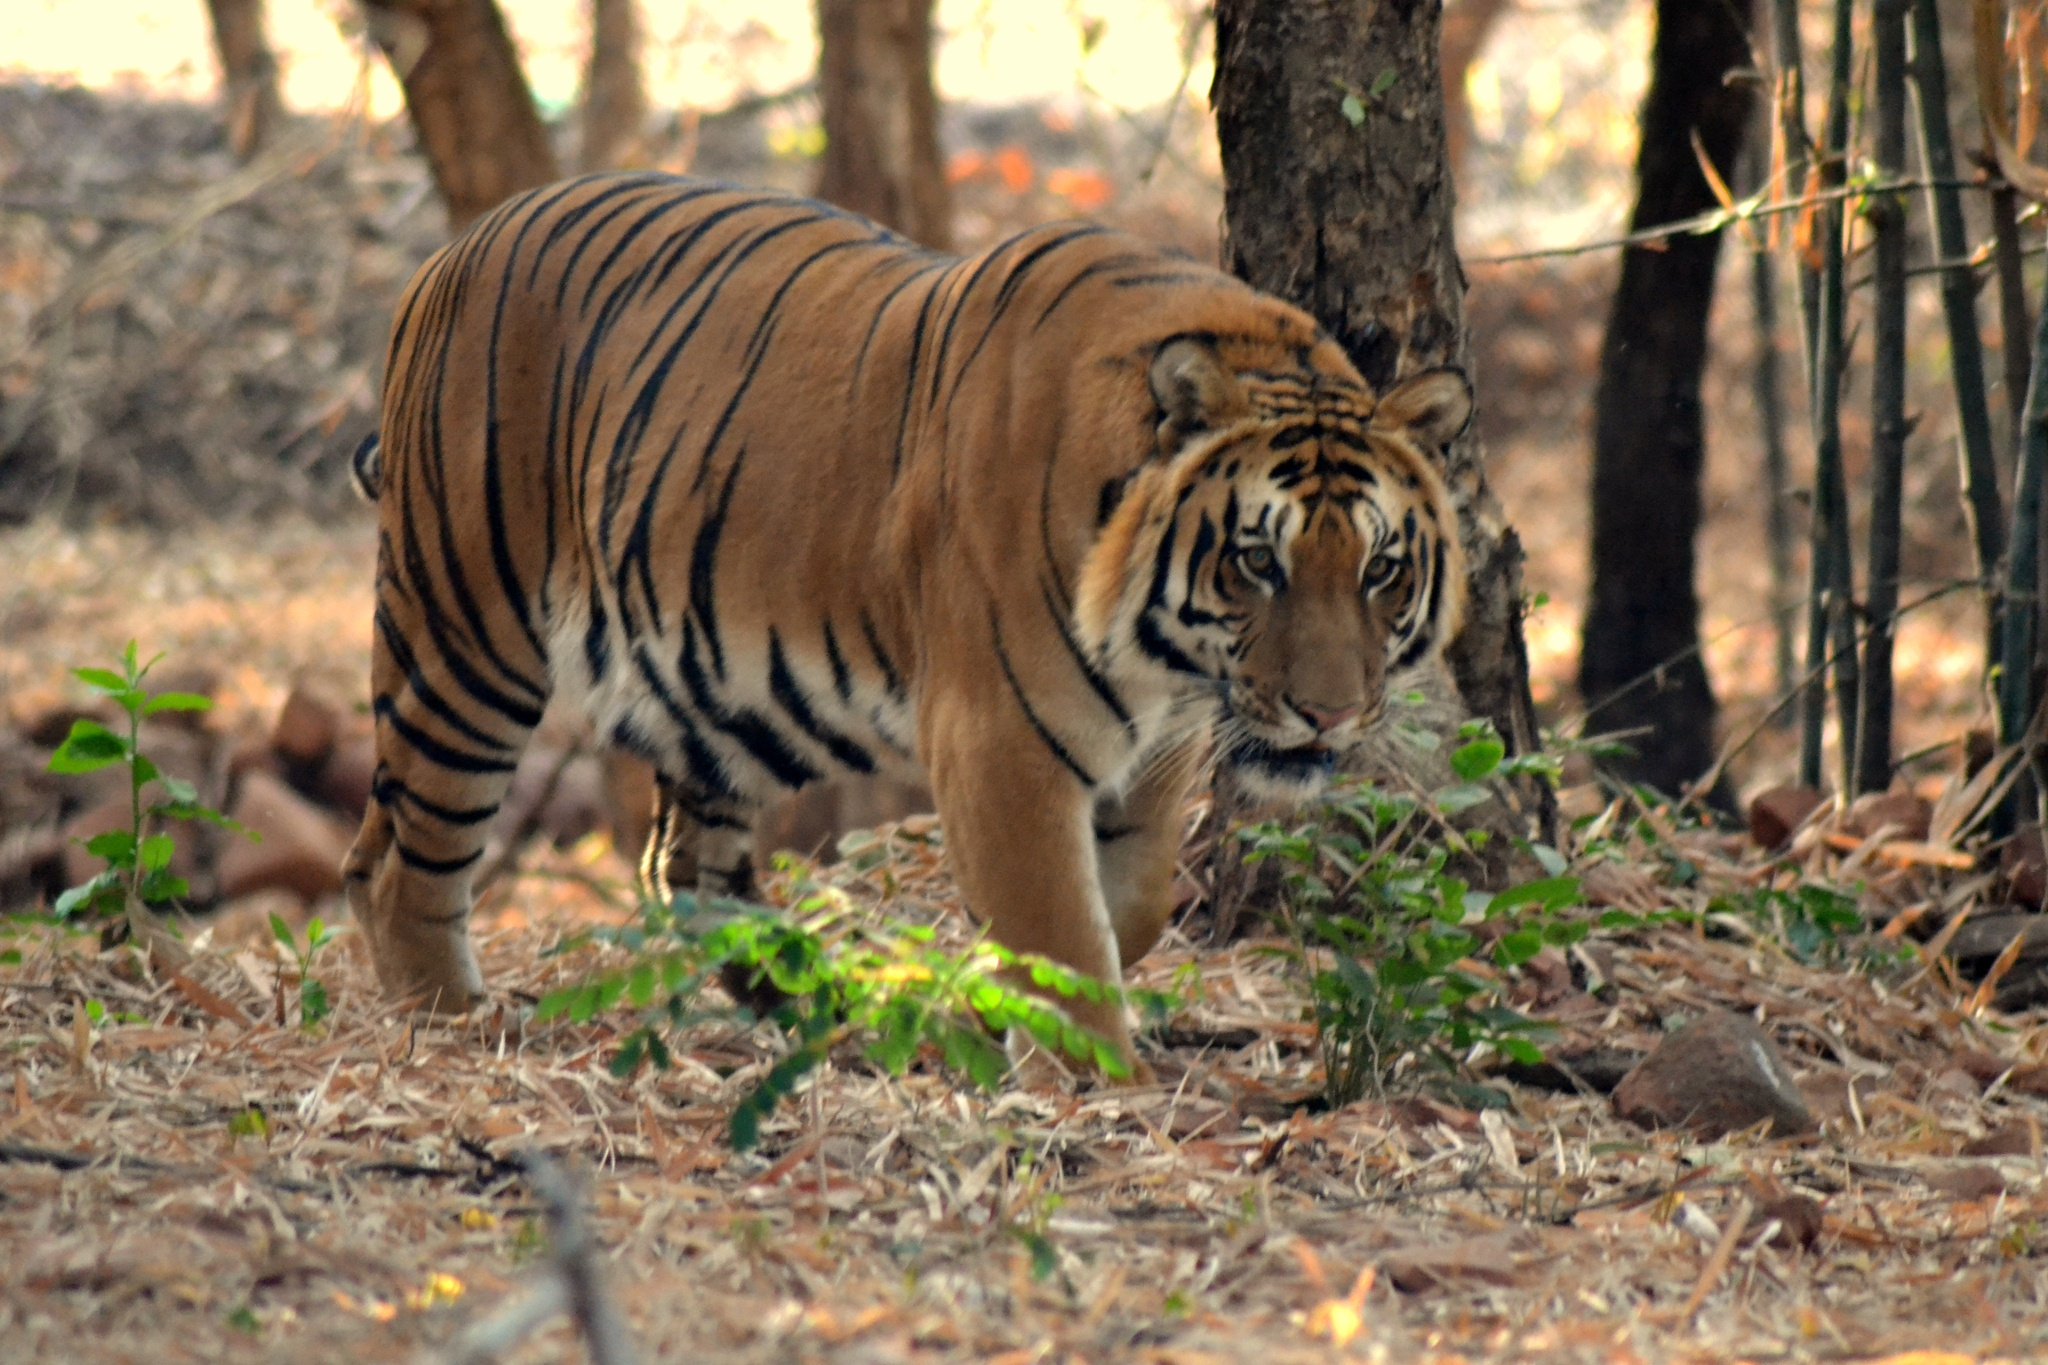tiger: (279, 134, 1527, 1140)
